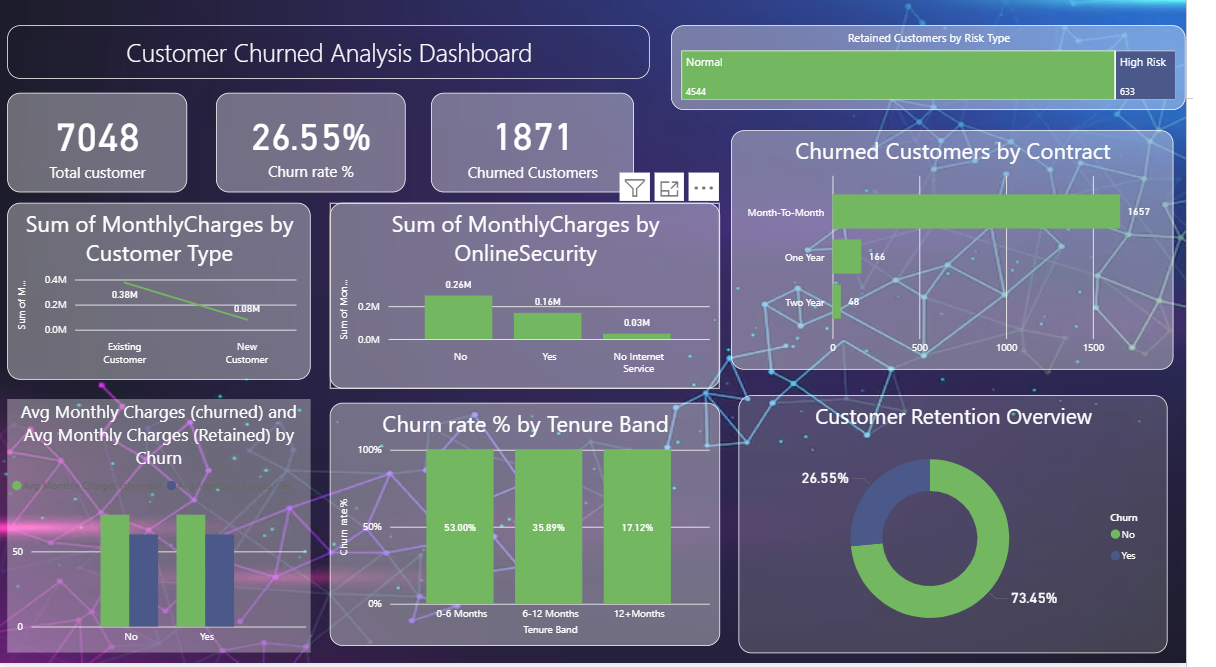

What the dashboard file says about the page in this screenshot:
{"tool":"powerbi","page":{"name":"Page 1","canvas":[1280,720],"ordinal":0},"visuals":[{"type":"textbox","box":[12.5,33.8,691.2,57.5],"z":0},{"type":"treemap","fields":{"Values":["Calculate Measure.Retained Customers"],"Group":["telco_churn_unclean.Risk Type"]},"box":[726.2,33.8,553.8,91.2],"z":1000},{"type":"card","fields":{"Values":["Calculate Measure.Total customer"]},"box":[12.5,106.2,193.8,107.5],"z":2000},{"type":"card","fields":{"Values":["Calculate Measure.Churn rate %"]},"box":[236.2,106.2,203.8,107.5],"z":3000},{"type":"card","fields":{"Values":["Calculate Measure.Churned Customers"]},"box":[467.5,106.2,218.8,107.5],"z":4000},{"type":"donutChart","title":"Customer Retention Overview","fields":{"Y":["Calculate Measure.Total customer"],"Category":["telco_churn_unclean.Churn"]},"box":[798.8,431.2,461.2,277.5],"z":5000},{"type":"barChart","fields":{"Category":["telco_churn_unclean.Contract"],"Y":["Calculate Measure.Churned Customers"]},"box":[791.2,146.2,476.2,257.5],"z":6000},{"type":"columnChart","fields":{"Category":["telco_churn_unclean.OnlineSecurity"],"Y":["Sum(telco_churn_unclean.MonthlyCharges)"]},"box":[358.8,225,420,200],"z":7000},{"type":"hundredPercentStackedColumnChart","fields":{"Category":["telco_churn_unclean.Tenure Band"],"Y":["Calculate Measure.Churn rate %"]},"box":[358.8,440,420,261.2],"z":8000},{"type":"lineChart","fields":{"Category":["telco_churn_unclean.Customer Type"],"Y":["Sum(telco_churn_unclean.MonthlyCharges)"]},"box":[12.5,225,326.2,190],"z":9000},{"type":"clusteredColumnChart","fields":{"Y":["Calculate Measure.Avg Monthly Charges (churned)","Calculate Measure.Avg Monthly Charges (Retained)"],"Category":["telco_churn_unclean.Churn"]},"box":[12.5,436.2,326.2,272.5],"z":10000}]}

Visuals, with their boxes in screenshot pixels (x1, y1, x2, y2), scaled from the page's 1280x720 canvas onto the 1216x667 screenshot:
textbox: select_region(12, 31, 669, 85)
treemap - Calculate Measure.Retained Customers x telco_churn_unclean.Risk Type: select_region(690, 31, 1215, 116)
card - Calculate Measure.Total customer: select_region(12, 98, 196, 198)
card - Calculate Measure.Churn rate %: select_region(224, 98, 418, 198)
card - Calculate Measure.Churned Customers: select_region(444, 98, 652, 198)
"Customer Retention Overview" donutChart: select_region(759, 399, 1197, 657)
barChart - telco_churn_unclean.Contract x Calculate Measure.Churned Customers: select_region(752, 135, 1204, 374)
columnChart - telco_churn_unclean.OnlineSecurity x Sum(telco_churn_unclean.MonthlyCharges): select_region(341, 208, 740, 394)
hundredPercentStackedColumnChart - telco_churn_unclean.Tenure Band x Calculate Measure.Churn rate %: select_region(341, 408, 740, 650)
lineChart - telco_churn_unclean.Customer Type x Sum(telco_churn_unclean.MonthlyCharges): select_region(12, 208, 322, 384)
clusteredColumnChart - Calculate Measure.Avg Monthly Charges (churned) x Calculate Measure.Avg Monthly Charges (Retained): select_region(12, 404, 322, 657)
